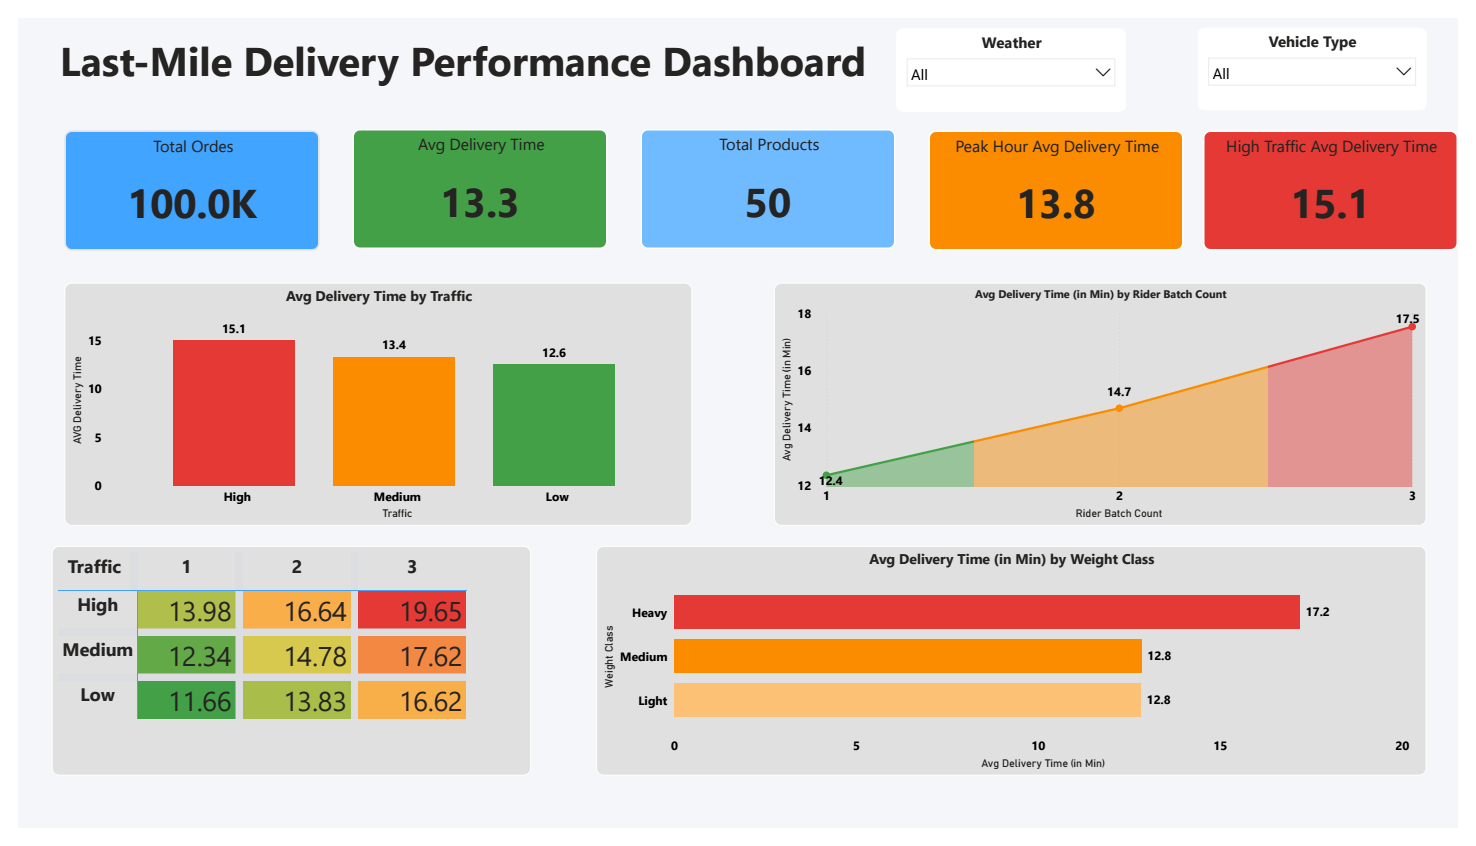

What the dashboard file says about the page in this screenshot:
{"tool":"powerbi","page":{"name":"Page 1","canvas":[1920,1080],"ordinal":0},"visuals":[{"type":"card","title":"Total Ordes","fields":{"Values":["deliveries.Total Deliveries"]},"box":[61.5,150,340,160],"z":0},{"type":"card","title":"Total Products","fields":{"Values":["deliveries.Total Products"]},"box":[829.7,148.2,340,160],"z":1000},{"type":"card","title":"Avg Delivery Time","fields":{"Values":["deliveries.avg delivery time"]},"box":[445.6,148.2,340,160],"z":2000},{"type":"clusteredColumnChart","title":"Avg Delivery Time by Traffic","fields":{"Category":["deliveries.traffic"],"Y":["deliveries.avg delivery time"]},"box":[61.5,352.9,837.9,323.9],"z":3000},{"type":"lineChart","fields":{"Category":["deliveries.rider_batch_count"],"Y":["deliveries.avg delivery time"]},"box":[1008,352.9,870.4,323.9],"z":4000},{"type":"pivotTable","fields":{"Rows":["deliveries.traffic"],"Columns":["deliveries.rider_batch_count"],"Values":["deliveries.avg delivery time"]},"box":[45.2,704,638.8,305.8],"z":5000},{"type":"slicer","title":"Weather","fields":{"Values":["deliveries.weather"]},"box":[1170.9,14.5,305.8,110.4],"z":6000},{"type":"slicer","title":"Vehicle Type","fields":{"Values":["riders.vehicle_type"]},"box":[1572.6,12.7,305.8,110.4],"z":7000},{"type":"card","title":"High Traffic Avg Delivery Time","fields":{"Values":["deliveries.High Traffic Avg Delivery Time"]},"box":[1580,150,340,160],"z":8000},{"type":"card","title":"Peak Hour Avg Delivery Time","fields":{"Values":["deliveries.Peak Hour Avg Delivery Time"]},"box":[1213.8,150,340,160],"z":9000},{"type":"clusteredBarChart","fields":{"Category":["orders.weight_class"],"Y":["deliveries.avg delivery time"]},"box":[770.9,704,1107.5,305.8],"z":10000},{"type":"textbox","box":[29,14.5,1129.2,105],"z":11000}]}

Visuals, with their boxes in screenshot pixels (x1, y1, x2, y2), scaled from the page's 1920x1080 canvas onto the 1476x846 screenshot:
"Total Ordes" card: region(47, 118, 309, 243)
"Total Products" card: region(638, 116, 899, 241)
"Avg Delivery Time" card: region(343, 116, 604, 241)
"Avg Delivery Time by Traffic" clusteredColumnChart: region(47, 276, 691, 530)
lineChart - deliveries.rider_batch_count x deliveries.avg delivery time: region(775, 276, 1444, 530)
pivotTable - deliveries.traffic x deliveries.rider_batch_count: region(35, 551, 526, 791)
"Weather" slicer: region(900, 11, 1135, 98)
"Vehicle Type" slicer: region(1209, 10, 1444, 96)
"High Traffic Avg Delivery Time" card: region(1215, 118, 1475, 243)
"Peak Hour Avg Delivery Time" card: region(933, 118, 1194, 243)
clusteredBarChart - orders.weight_class x deliveries.avg delivery time: region(593, 551, 1444, 791)
textbox: region(22, 11, 890, 94)
